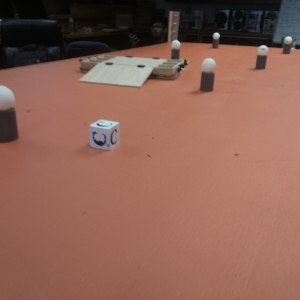obstacle: (1, 84, 16, 147), (201, 59, 216, 89), (256, 47, 266, 71), (171, 41, 180, 60), (282, 37, 289, 52), (213, 34, 219, 47)
side: (87, 64, 154, 89), (162, 59, 189, 79)
